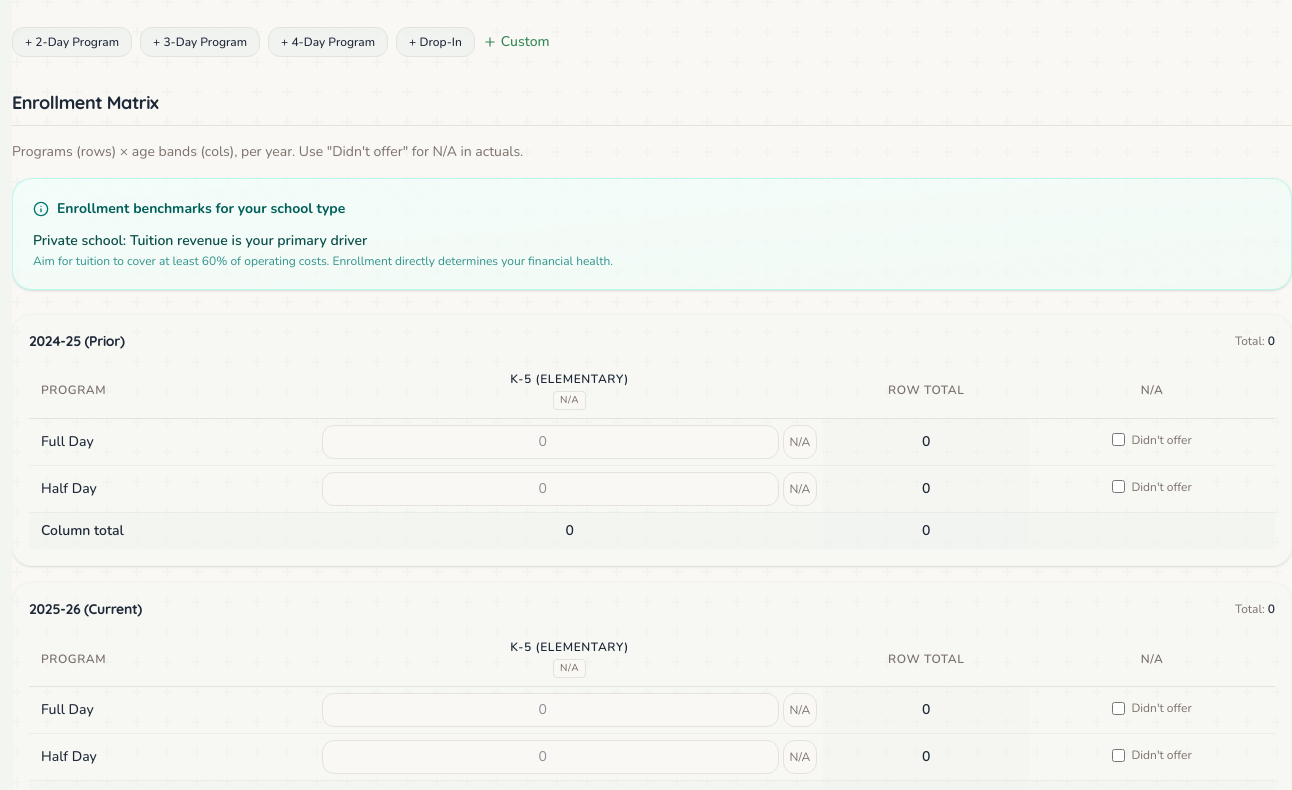
Test: program × group enrollment matrix › column N/A stays on when an underlying cell becomes non-null, and Restore clears the mask
(page scrolled)
Click the button with test id "matrix-col-na-priorYear-k5".
click(570, 400)  # box x1=553 y1=391 x2=586 y2=410
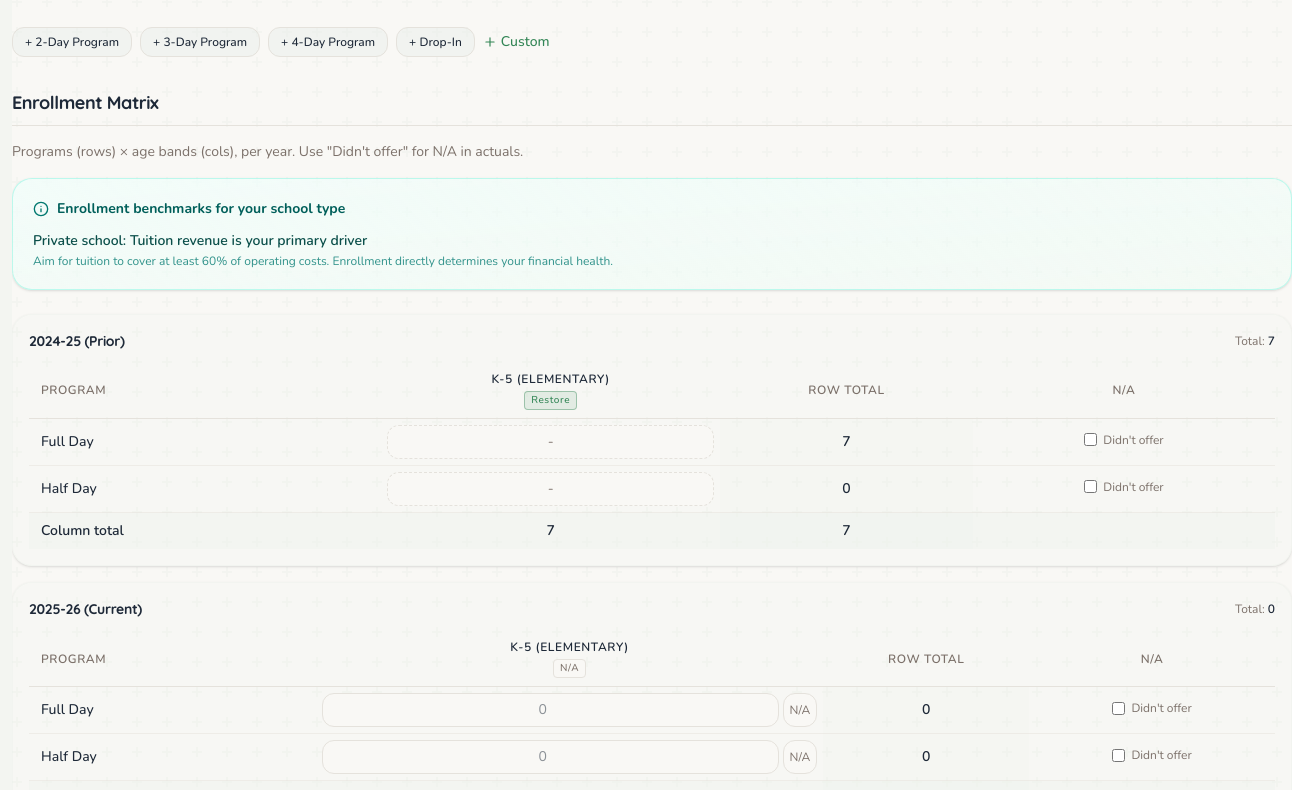
Expected: the button with test id "matrix-col-na-priorYear-k5" reads "Restore"
Click the button with test id "matrix-col-na-priorYear-k5".
click(551, 400)  # box x1=524 y1=391 x2=577 y2=410
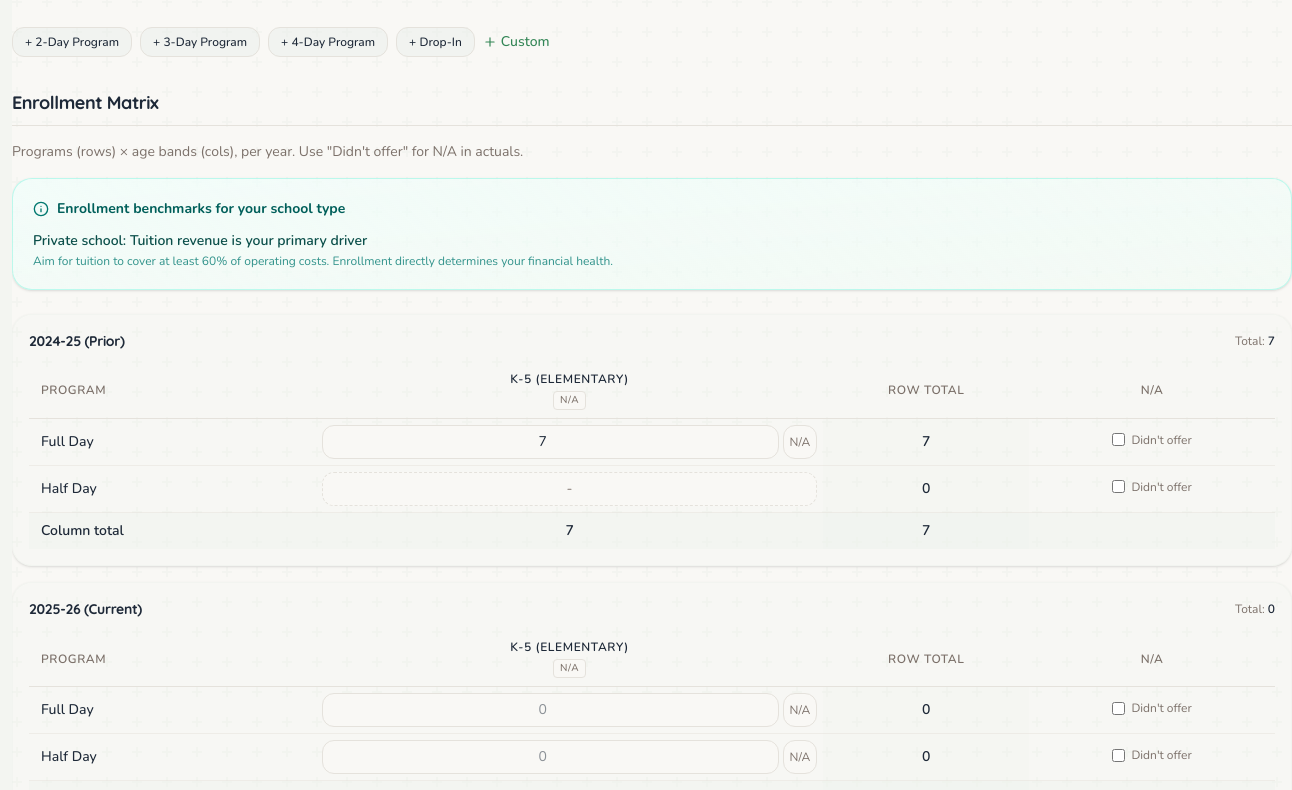
Expected: the button with test id "matrix-col-na-priorYear-k5" reads "N/A", x1=553 y1=391 x2=586 y2=410
